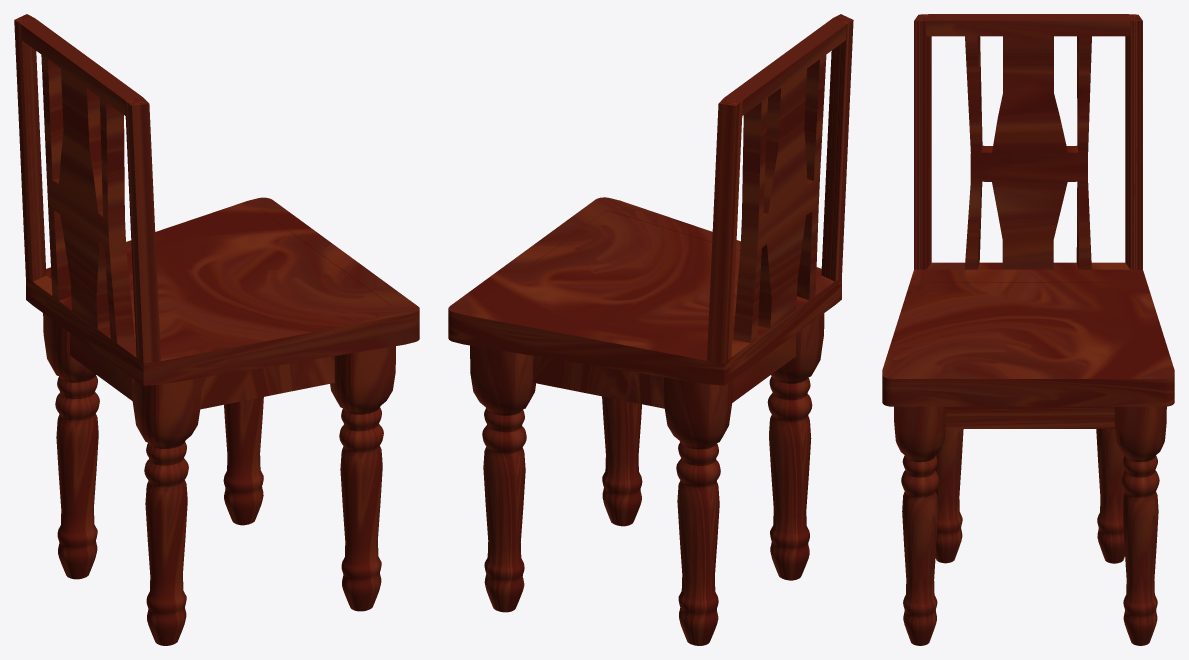
The model's file is cadeira6.glb.
The picture shows the model from 3 angles, left to right: view 1: azimuth 30°, elevation 25°; view 2: azimuth 150°, elevation 25°; view 3: azimuth 270°, elevation 25°; orthographic projection. The views are drawn at different scales.
Parts seen in each view (by area): view 1: Cube.006, Cube.009, Cube.004, Cube.008, Cube.005, Cube.007; view 2: Cube.006, Cube.008, Cube.007, Cube.009, Cube.005, Cube.004; view 3: Cube.006, Cube.007, Cube.004, Cube.005, Cube.008, Cube.009.
Boxes of the visible parts, bbox=[...] form: Cube.006: bbox=[14, 14, 419, 385]; Cube.009: bbox=[132, 378, 200, 645]; Cube.004: bbox=[330, 346, 395, 611]; Cube.008: bbox=[43, 313, 99, 579]; Cube.005: bbox=[69, 333, 334, 409]; Cube.007: bbox=[223, 397, 263, 525]; Cube.006: bbox=[448, 14, 853, 385]; Cube.008: bbox=[664, 377, 732, 645]; Cube.007: bbox=[470, 345, 535, 612]; Cube.009: bbox=[767, 313, 824, 580]; Cube.005: bbox=[532, 334, 796, 408]; Cube.004: bbox=[602, 396, 642, 526]; Cube.006: bbox=[882, 14, 1174, 406]; Cube.007: bbox=[1114, 406, 1166, 645]; Cube.004: bbox=[894, 406, 946, 645]; Cube.005: bbox=[945, 406, 1115, 428]; Cube.008: bbox=[1096, 429, 1125, 563]; Cube.009: bbox=[935, 429, 963, 563].
Size of the model in its own units: 2.64 by 5.19 by 2.62.
Materials: 2 (2 with a texture image).
